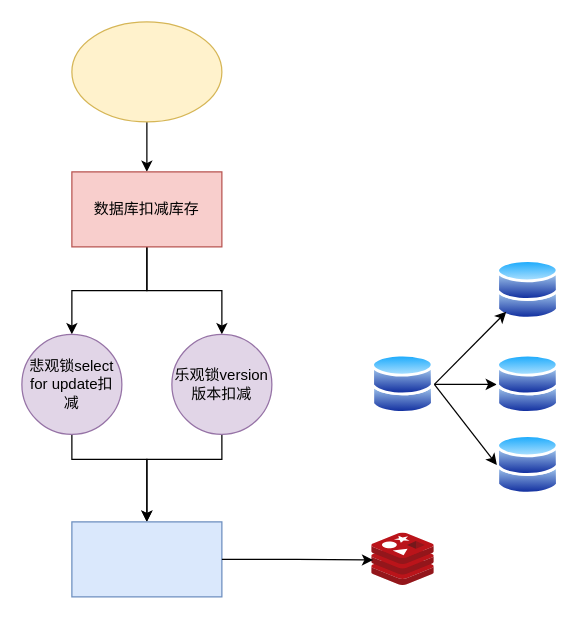
Some shapes in this 581 by 619 pixel diagram are drawn without their labels. The centre of each missing label's shape, as x and y in pixels:
同步删除库存缓存: (x=146, y=559)
开始进入Controller: (x=146, y=71)
